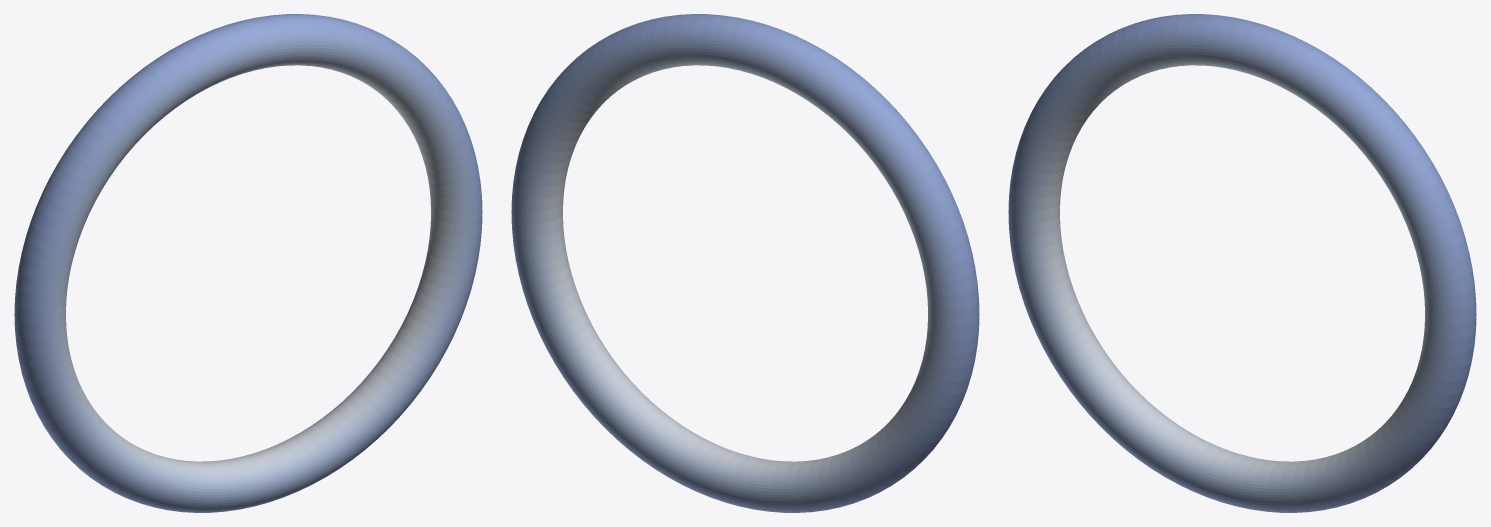
3 views of the same model, side by side, from view 1: azimuth 30°, elevation 25°; view 2: azimuth 150°, elevation 25°; view 3: azimuth 330°, elevation 25° (orthographic).
Visible parts, largest first — view 1: world; view 2: world; view 3: world.
Part boxes in pixels (x1,y1,x2,y2): world: [14, 14, 482, 512]; world: [511, 14, 979, 512]; world: [1008, 14, 1476, 512].
Bounding box in the file's own units: 31.73 × 31.73 × 3.06.
